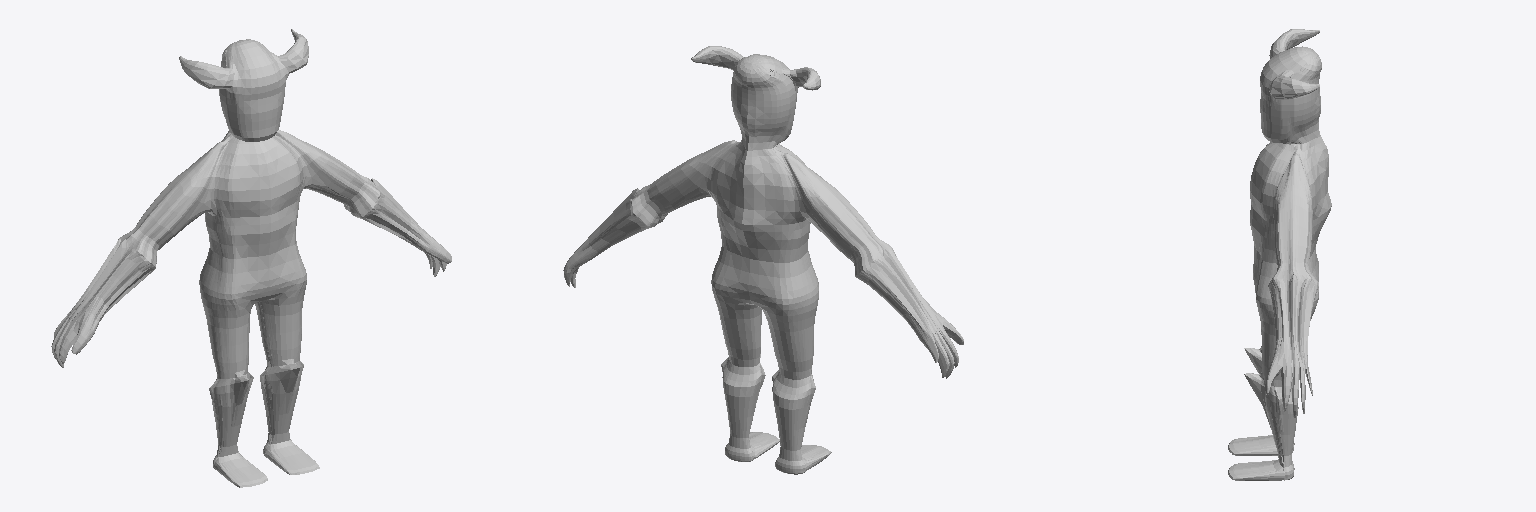
File: Enemy.obj
3 renders of one model, left to right at view 1: azimuth 30°, elevation 25°; view 2: azimuth 150°, elevation 25°; view 3: azimuth 270°, elevation 25°, orthographic.
Visible parts, largest first — view 1: pSphere10; view 2: pSphere10; view 3: pSphere10.
Part boxes in pixels (x1,y1,x2,y2): pSphere10: (51, 29, 451, 487); pSphere10: (563, 46, 963, 474); pSphere10: (1228, 29, 1331, 480).
Bounding box in the file's own units: 6.07 × 6.18 × 1.41.